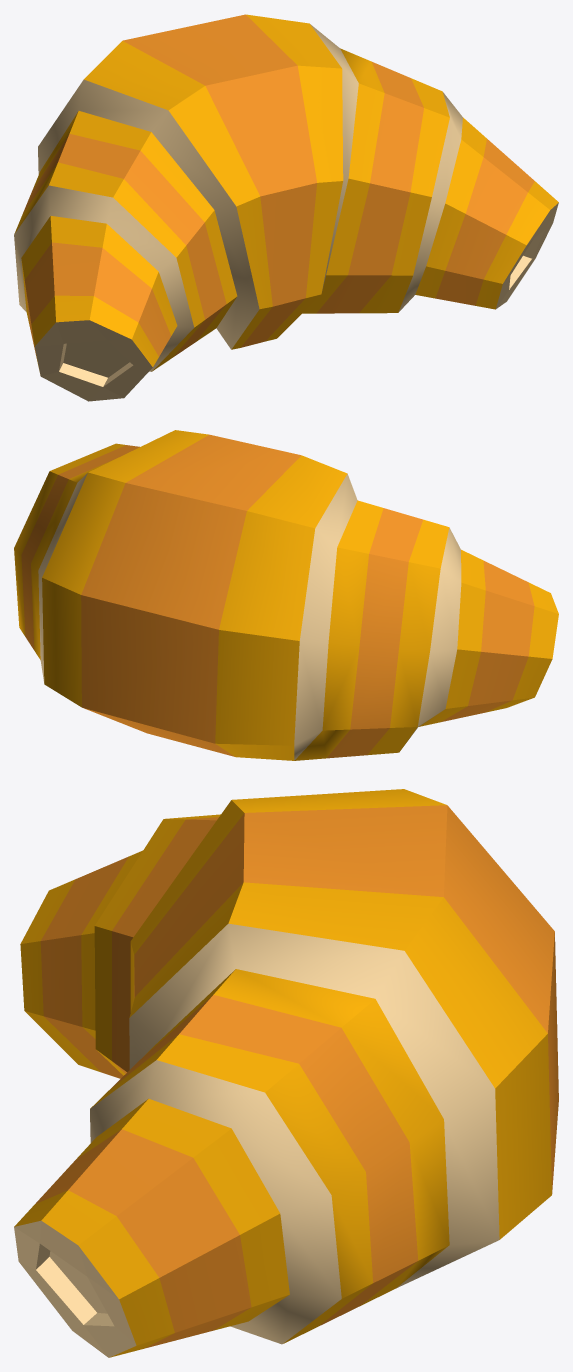
File: PW_croissant.fbx
The picture shows the model from 3 angles, top to bottom: view 1: azimuth 30°, elevation 25°; view 2: azimuth 150°, elevation 25°; view 3: azimuth 270°, elevation 25°; orthographic projection. The views are drawn at different scales.
Visible parts, largest first — view 1: croissant; view 2: croissant; view 3: croissant.
Boxes of the visible parts, x1=… form: croissant: x1=14, y1=14, x2=558, y2=401; croissant: x1=14, y1=430, x2=558, y2=760; croissant: x1=14, y1=789, x2=558, y2=1357.
Bounding box in the file's own units: 39.96 × 20.07 × 24.78.
Materials: 1 (1 with a texture image).
